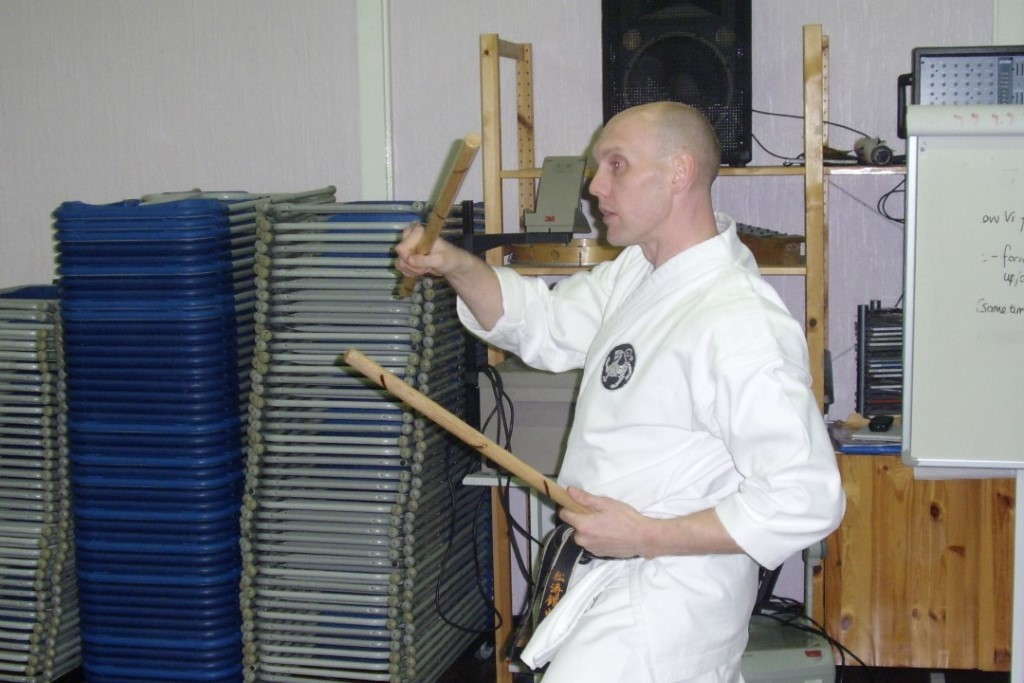baston_e: (352, 349, 580, 522), (397, 147, 482, 287)
baston_v: (390, 280, 426, 305), (460, 125, 487, 155), (334, 341, 358, 371)
